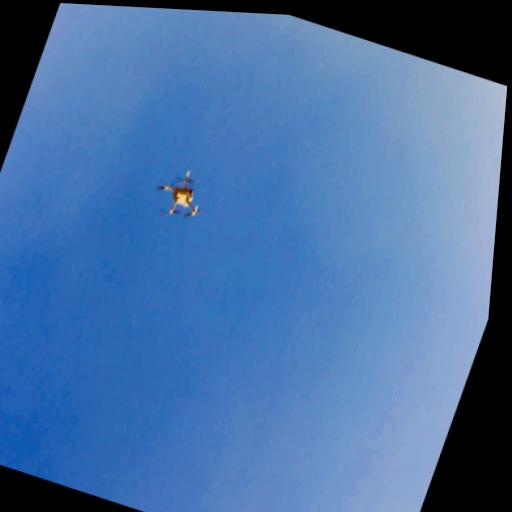drones: (143, 158, 215, 232)
